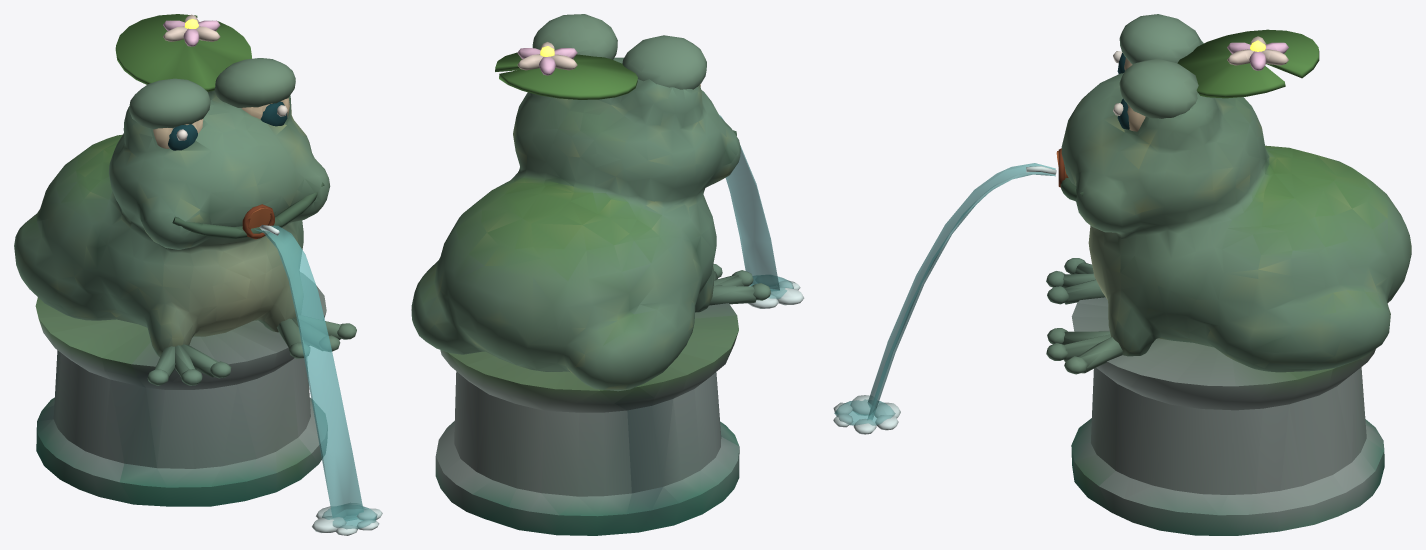
File: grotto_frog_spout_lod1.glb
The picture shows the model from 3 angles, left to right: view 1: azimuth 30°, elevation 25°; view 2: azimuth 150°, elevation 25°; view 3: azimuth 270°, elevation 25°; orthographic projection. The views are drawn at different scales.
Visible parts, largest first — view 1: grotto_frog_spout.001; view 2: grotto_frog_spout.001; view 3: grotto_frog_spout.001.
Part boxes in pixels (x1,y1,x2,y2): grotto_frog_spout.001: (14, 14, 382, 535); grotto_frog_spout.001: (411, 14, 804, 535); grotto_frog_spout.001: (833, 14, 1411, 535).
Size of the model in its own units: 6.81 by 10.61 by 12.58.
